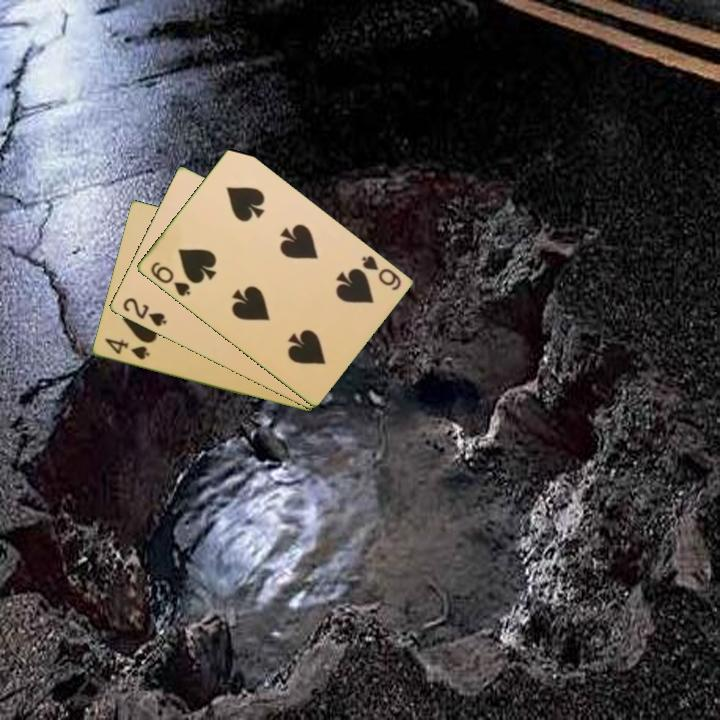2s: (119, 294, 169, 330)
4s: (101, 335, 152, 363)
6s: (358, 252, 404, 294), (147, 258, 193, 299)
